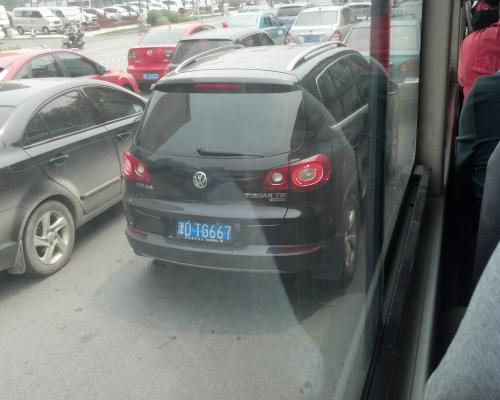Carplate: (170, 212, 238, 245)
